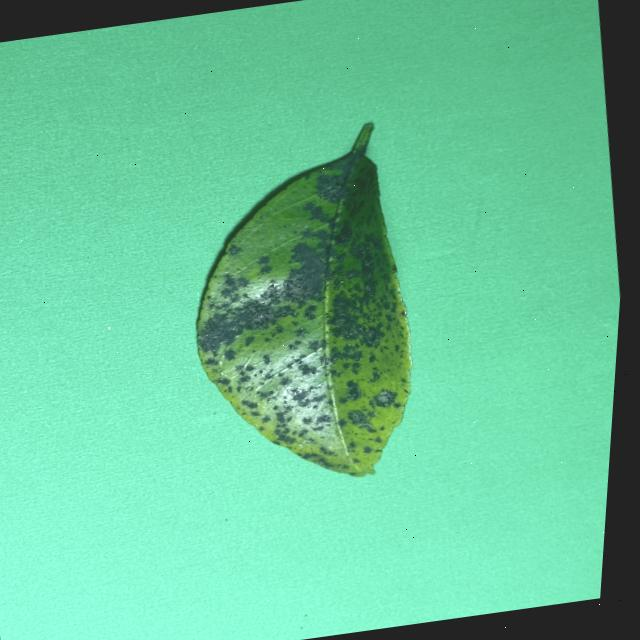sooty_mold: (196, 123, 410, 475)
